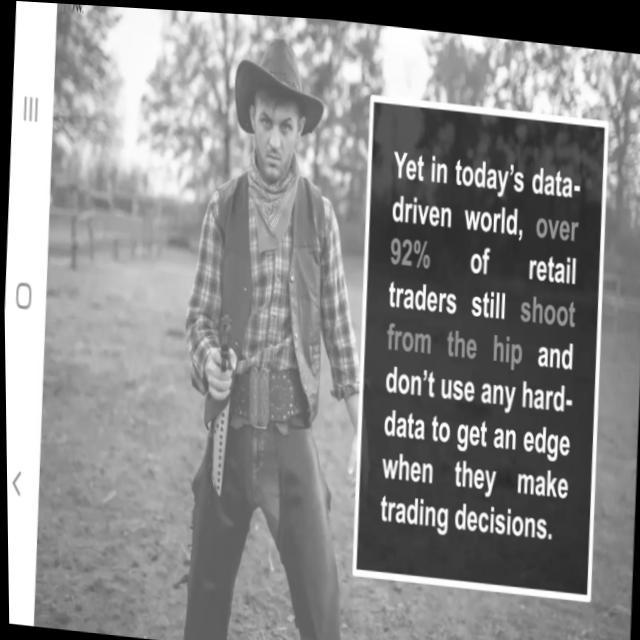weapon: (210, 306, 237, 406)
